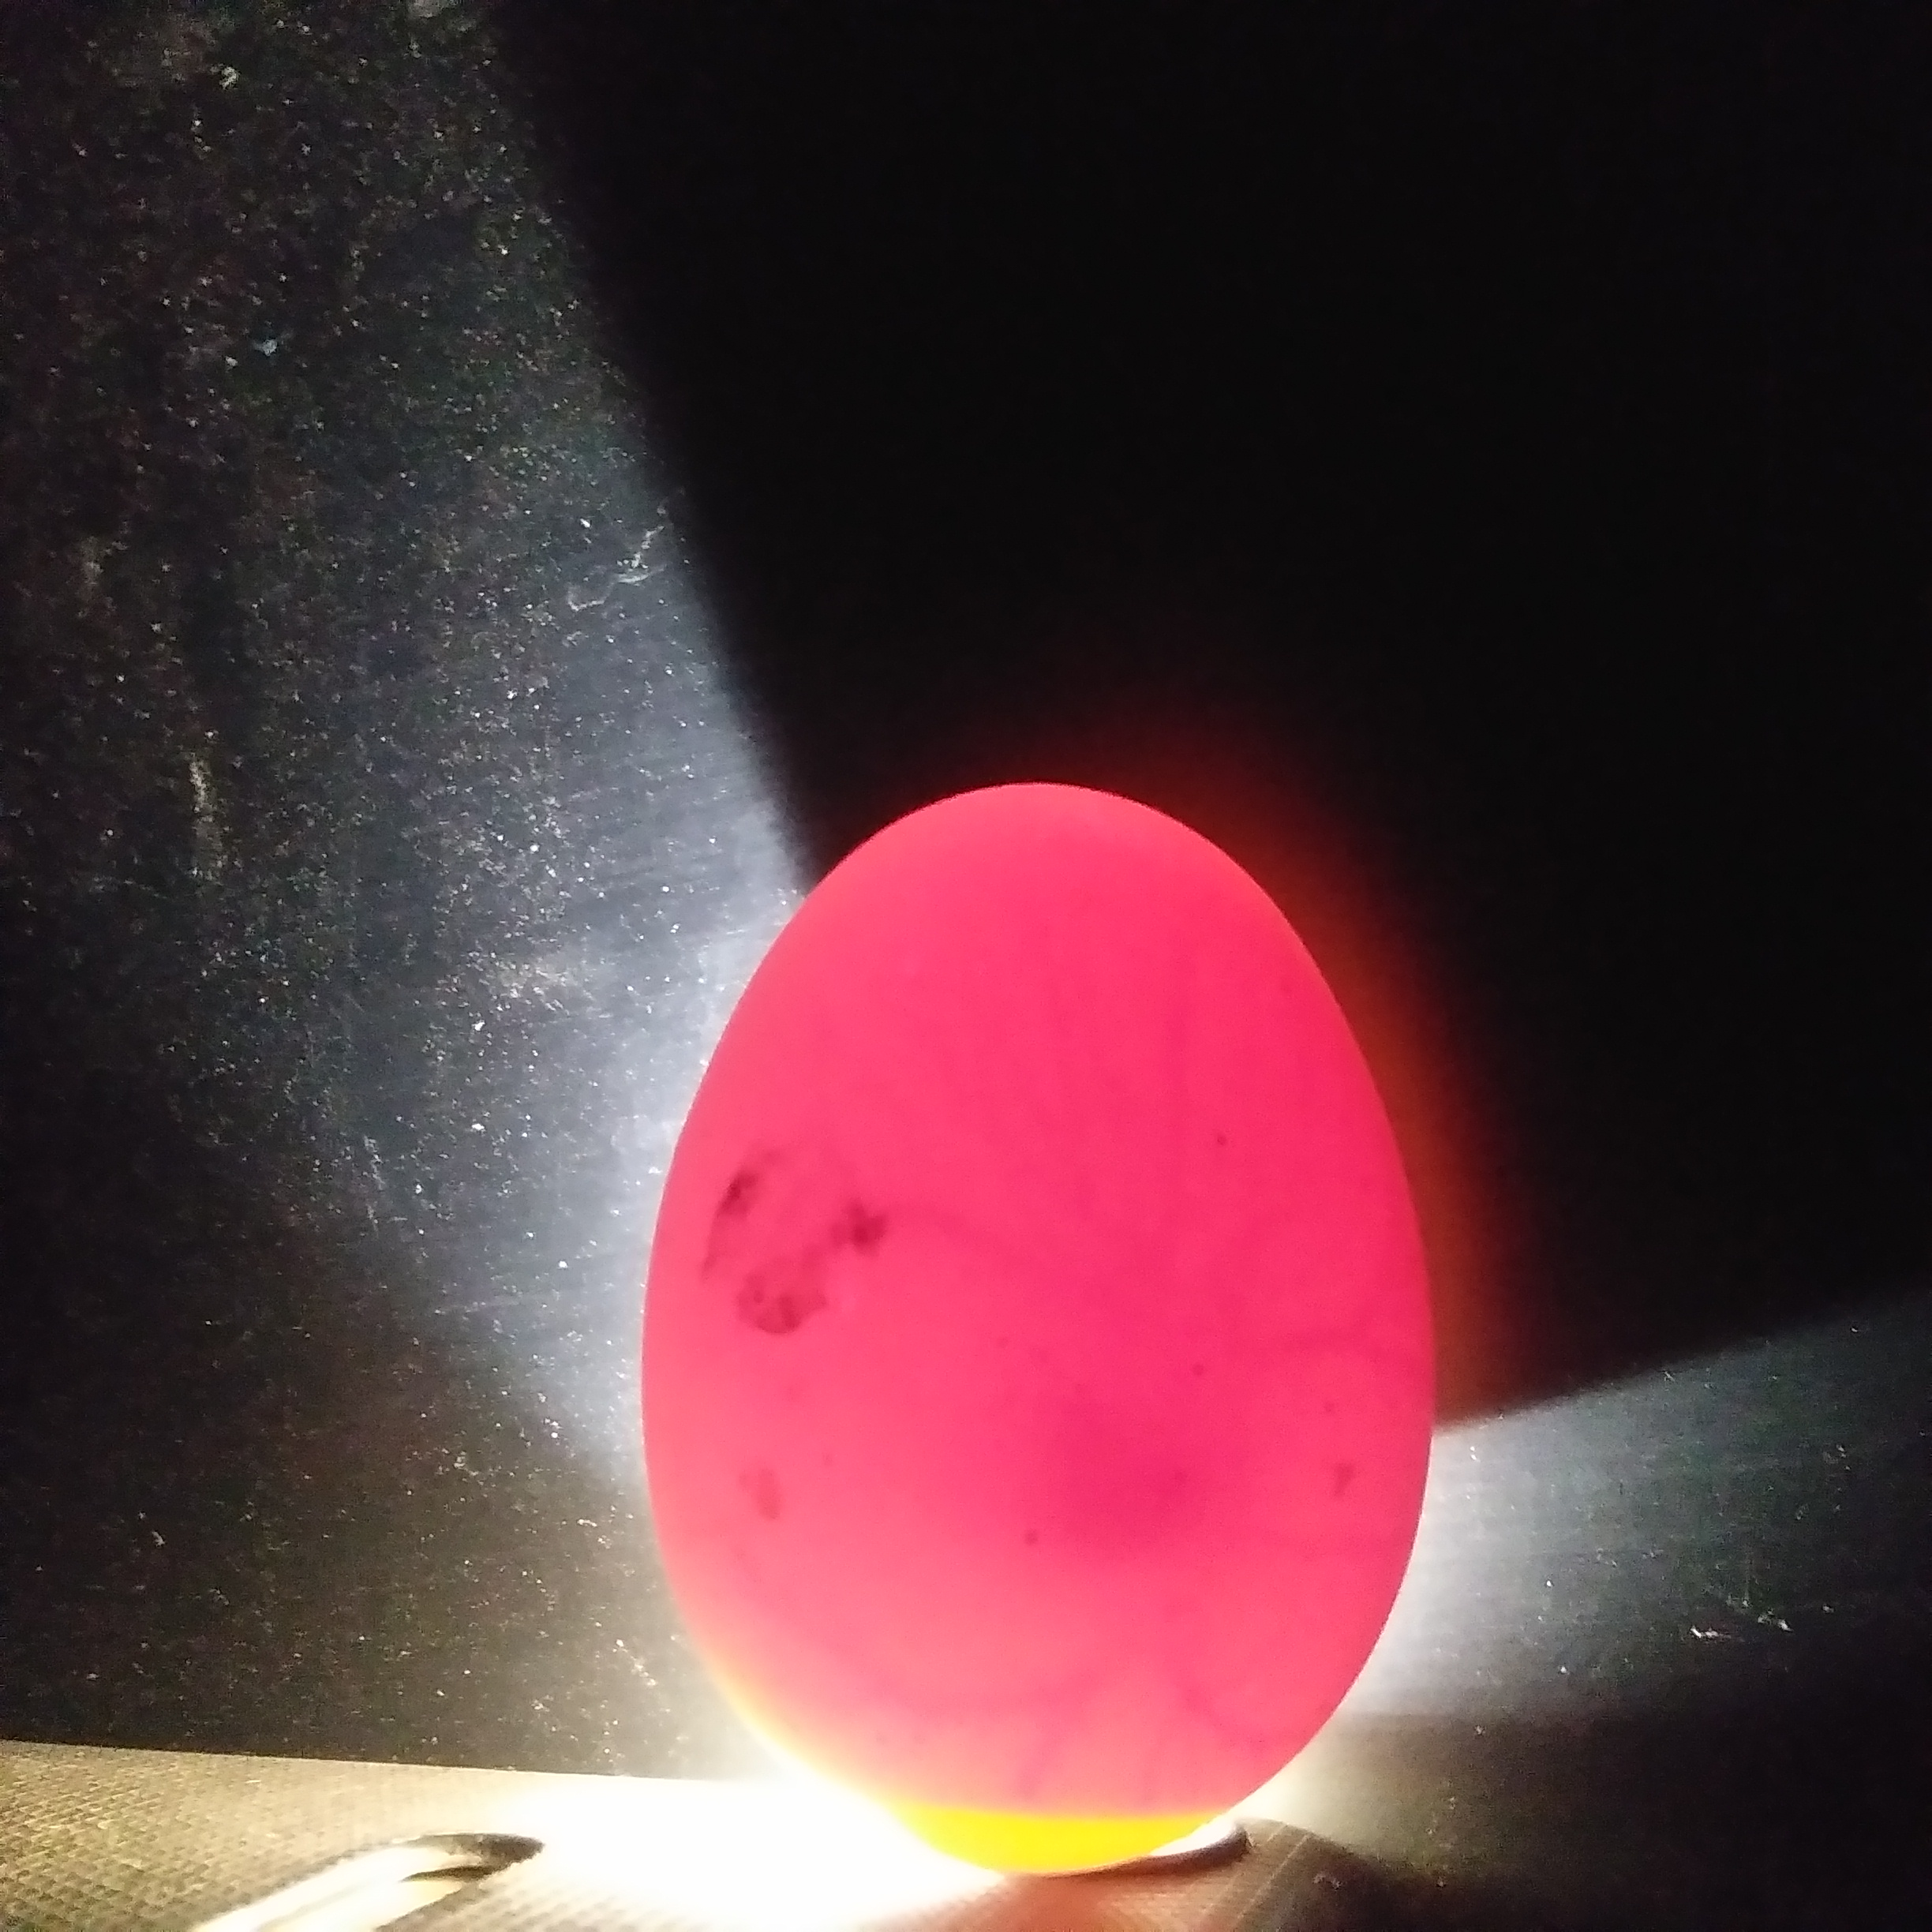bloodcell: (1046, 964, 1274, 1246), (908, 1647, 1230, 1792)
